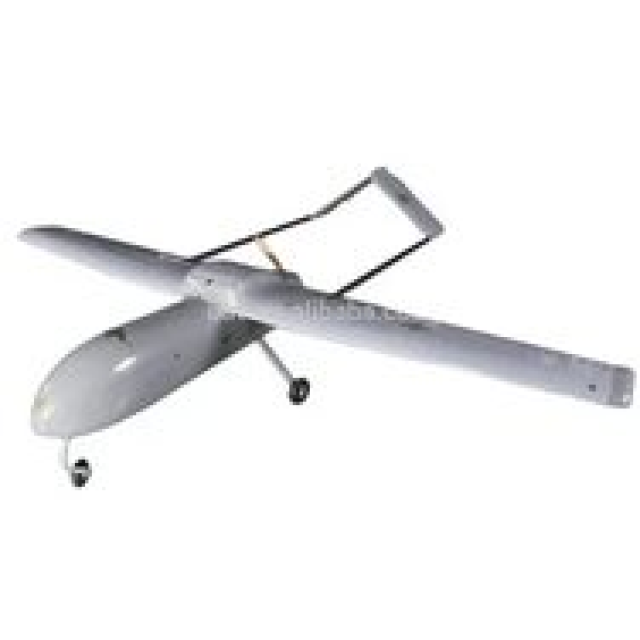military drone: (17, 167, 635, 487)
